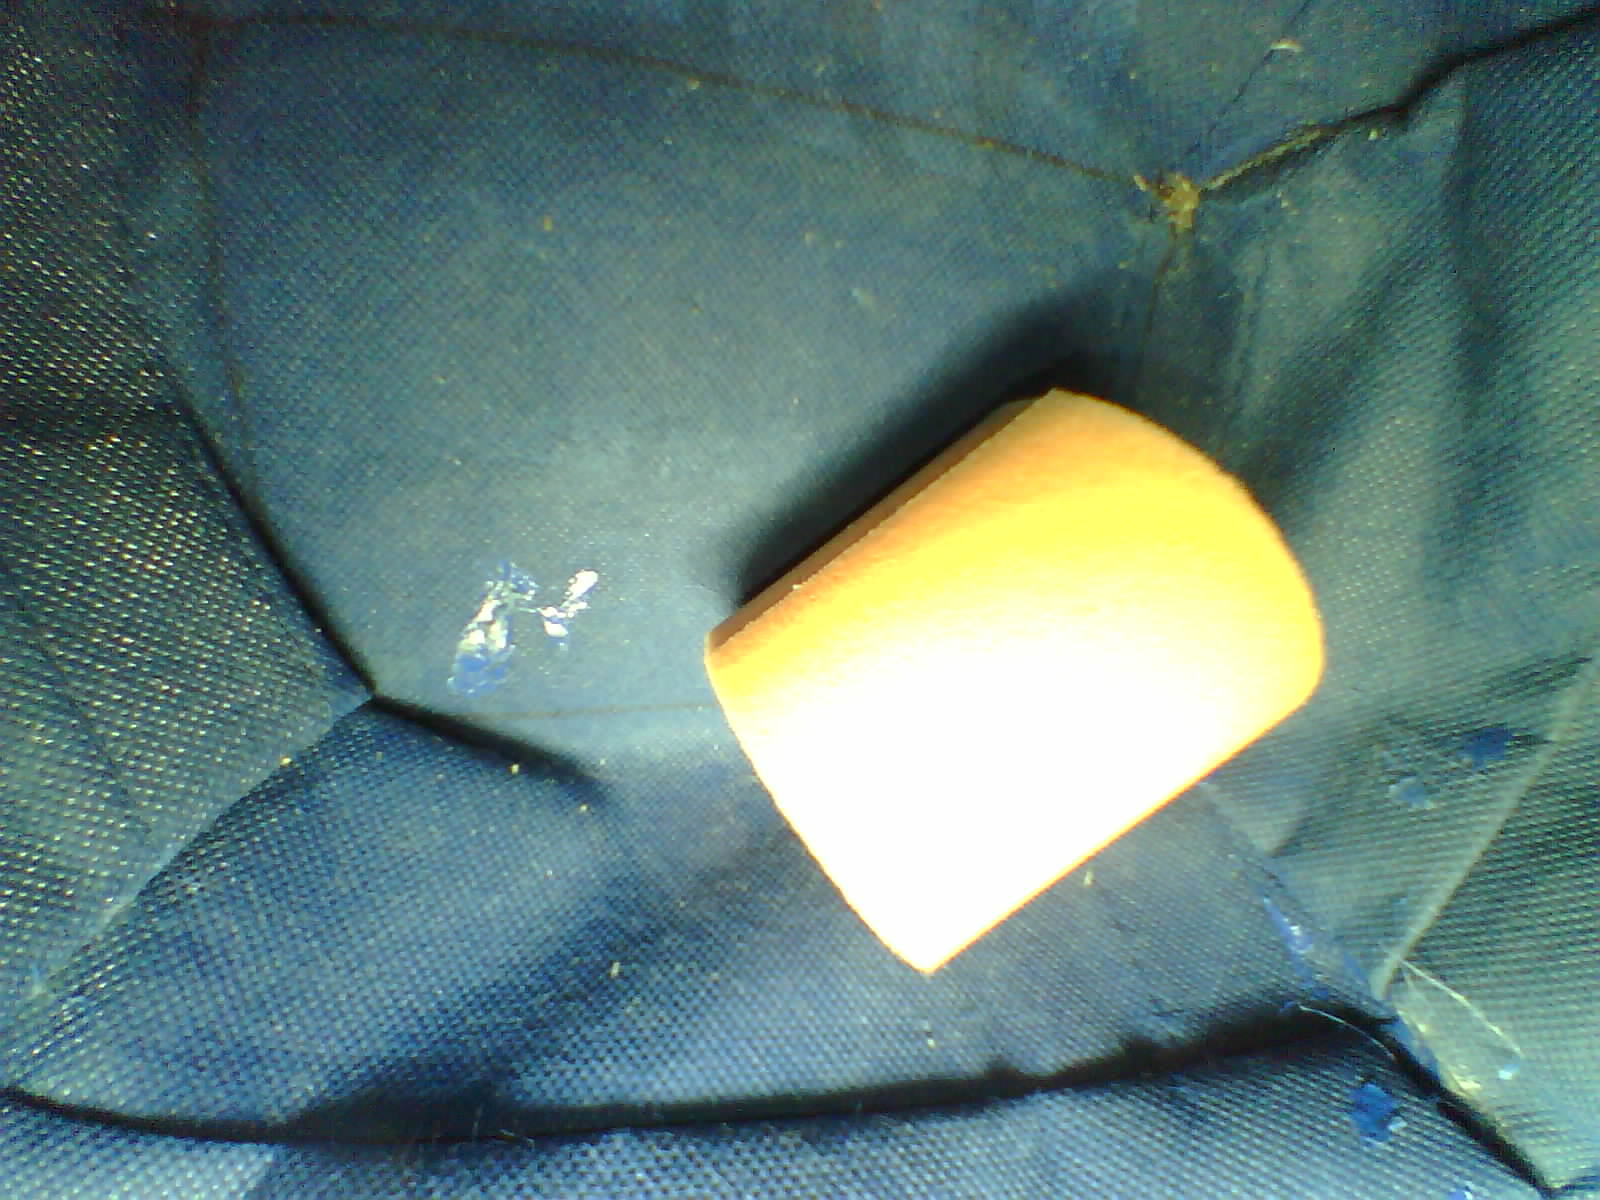cylinder-soft: (693, 364, 1342, 996)
